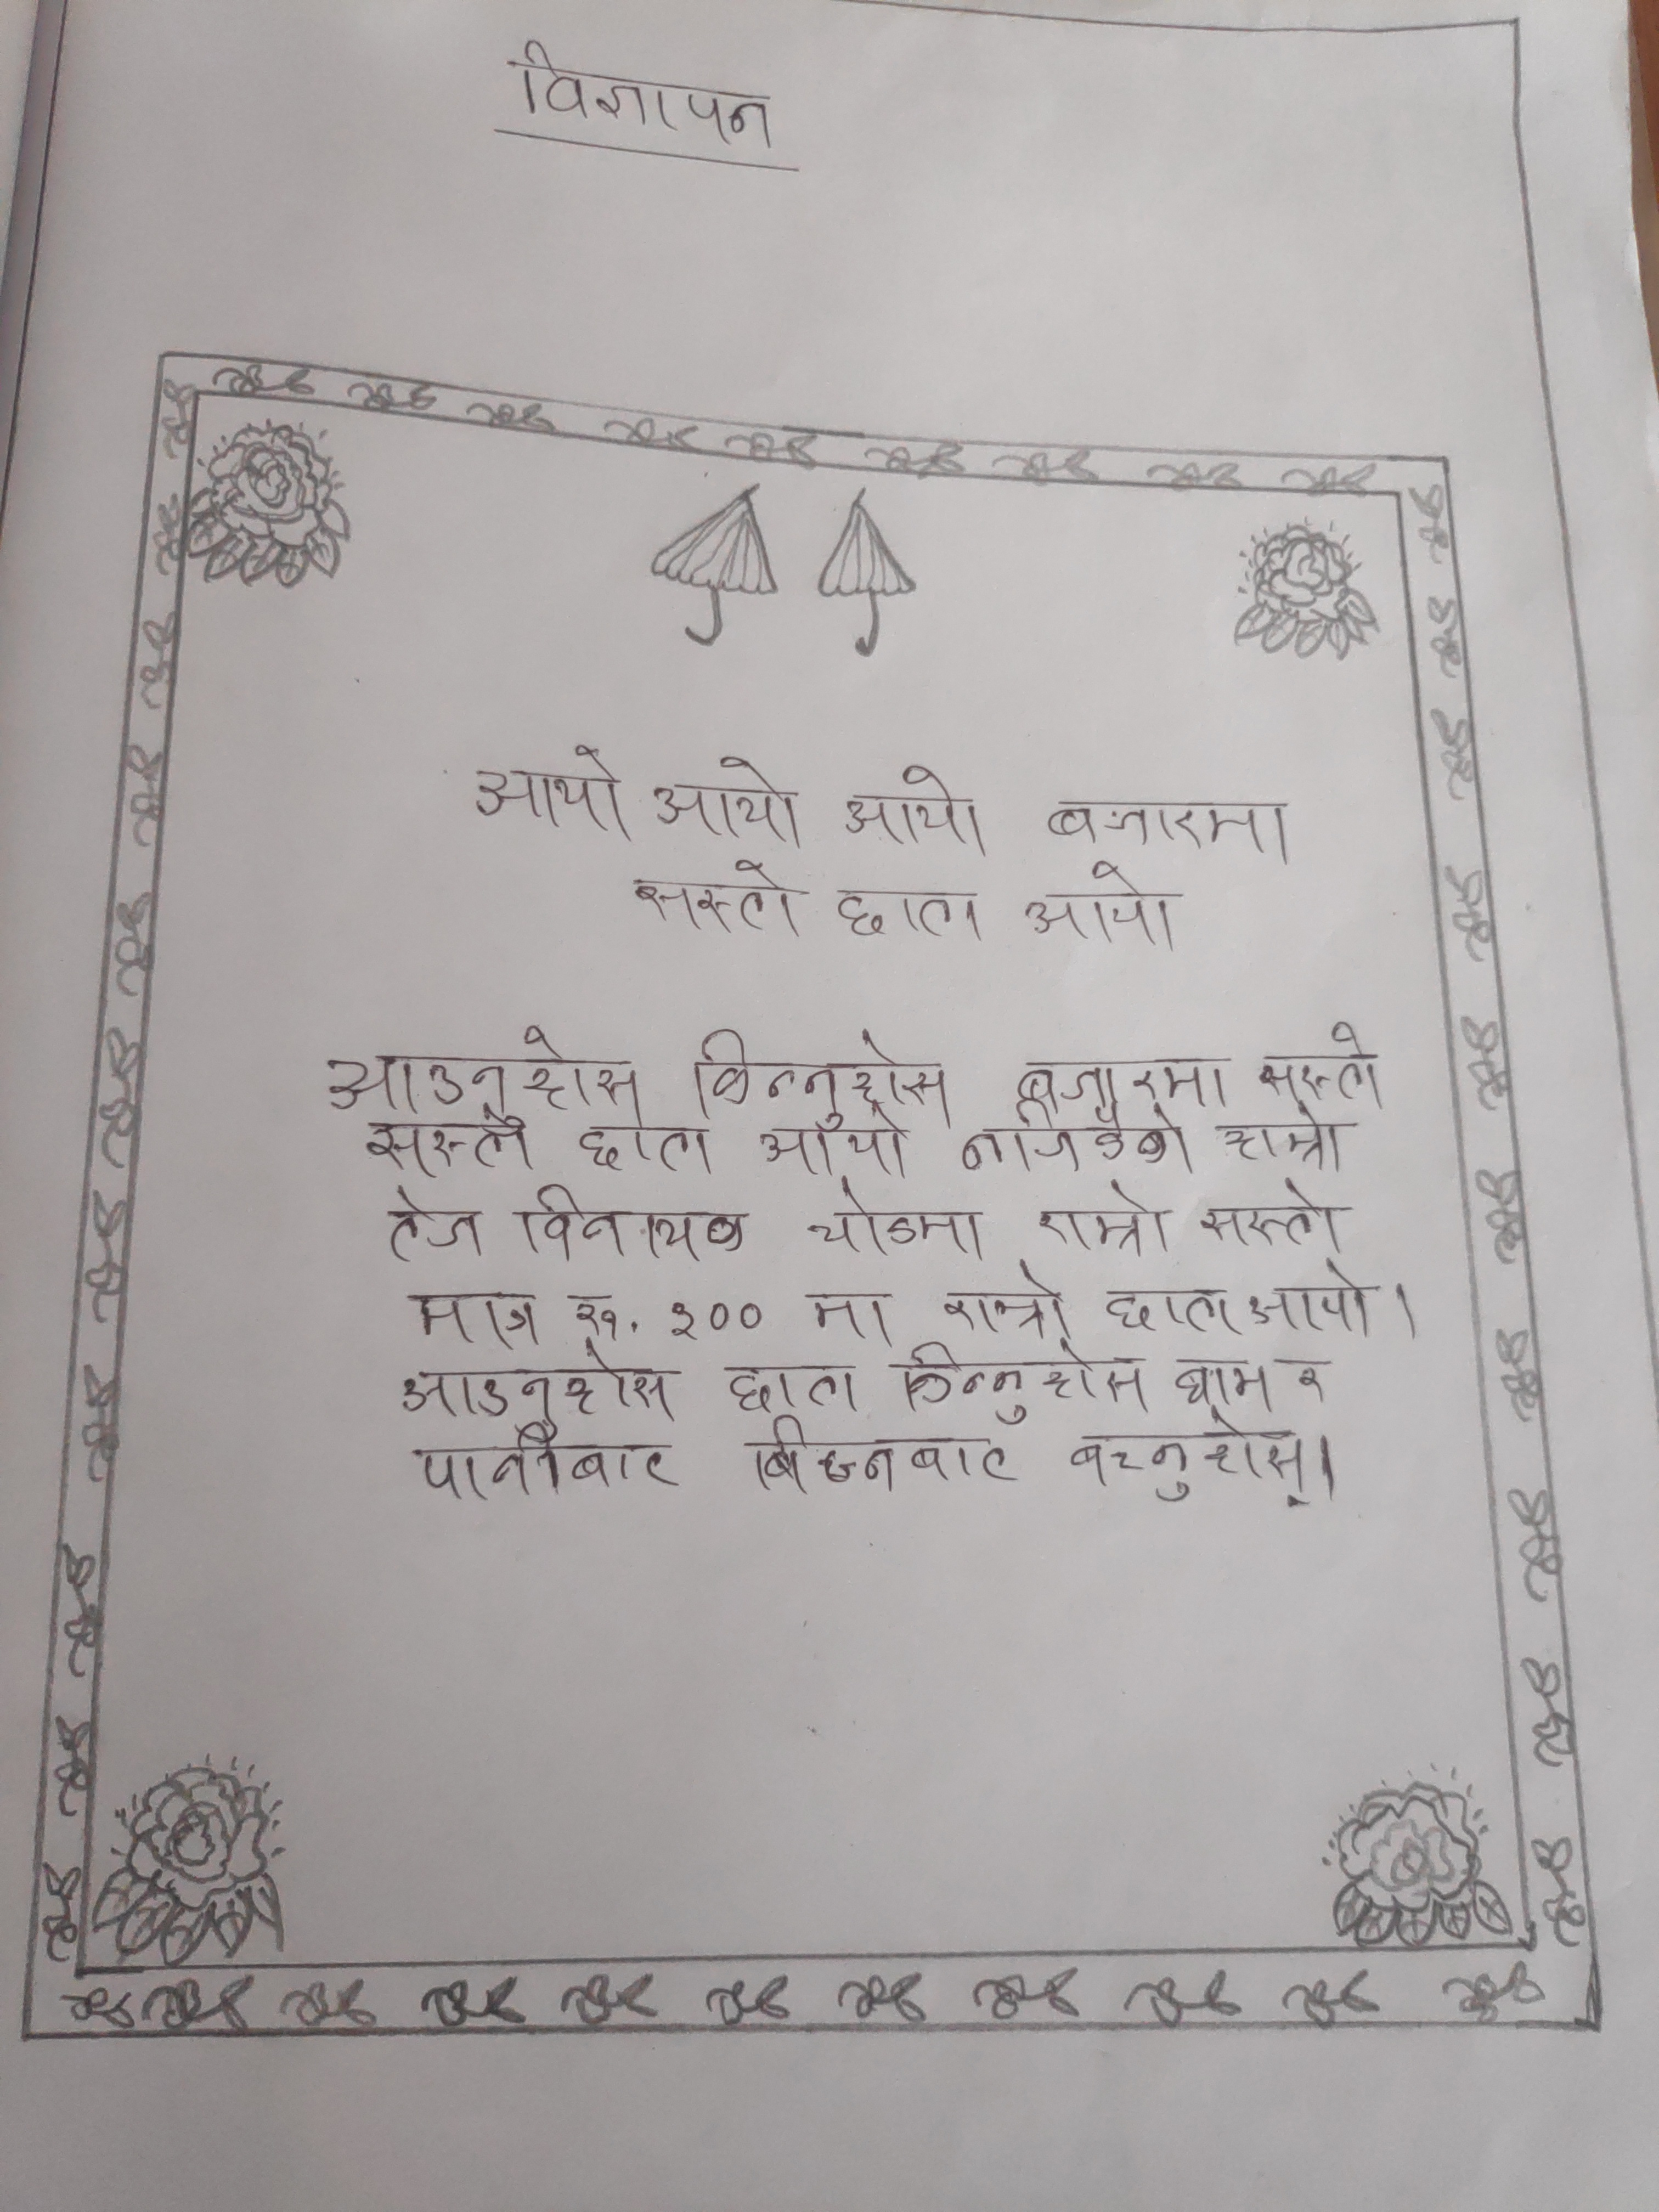text: (505, 35, 782, 157), (683, 1019, 960, 1132), (326, 1029, 641, 1120), (397, 1343, 676, 1442), (1068, 1409, 1319, 1512), (746, 1414, 1014, 1498), (892, 1346, 1154, 1428), (420, 1428, 680, 1505), (511, 1186, 755, 1259), (809, 1174, 995, 1263), (957, 1104, 1194, 1174), (1035, 794, 1288, 859), (467, 747, 634, 841), (1002, 1054, 1236, 1116), (652, 754, 805, 848), (627, 859, 805, 939), (1021, 860, 1182, 949), (840, 763, 990, 857), (357, 1109, 542, 1179), (1255, 1021, 1394, 1108), (1192, 1177, 1349, 1252), (1032, 1179, 1175, 1259), (1246, 1256, 1380, 1339), (760, 1109, 915, 1179), (382, 1176, 488, 1266), (1218, 1104, 1352, 1176), (938, 1273, 1079, 1339), (831, 883, 985, 942), (1098, 1278, 1243, 1339), (575, 1123, 728, 1181), (720, 1359, 861, 1420), (408, 1289, 547, 1348), (1171, 1348, 1276, 1413), (664, 1285, 767, 1348), (803, 1289, 899, 1346), (568, 1289, 633, 1343), (1286, 1353, 1335, 1407)
